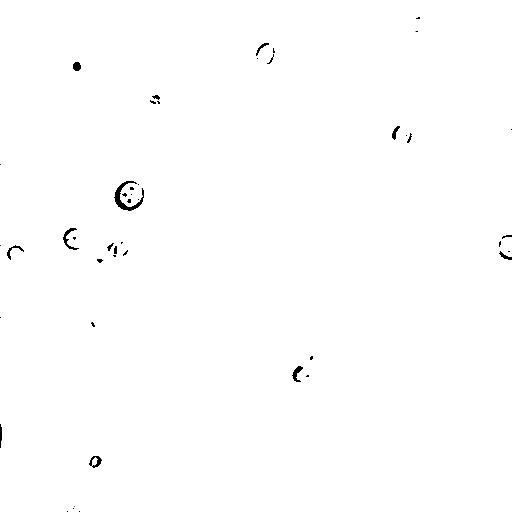micro-algae: (468, 17, 512, 83), (7, 281, 57, 333), (399, 35, 449, 83), (56, 43, 95, 89), (113, 179, 146, 213), (301, 344, 333, 377), (148, 223, 179, 252), (83, 248, 118, 273), (63, 224, 95, 251), (405, 10, 432, 34), (255, 41, 277, 67), (391, 123, 413, 146), (107, 237, 131, 258), (1, 419, 17, 450), (57, 499, 91, 512), (89, 309, 109, 331), (497, 233, 511, 261), (7, 244, 27, 263), (154, 0, 175, 17), (293, 364, 311, 383), (87, 453, 104, 471), (505, 123, 512, 145)
